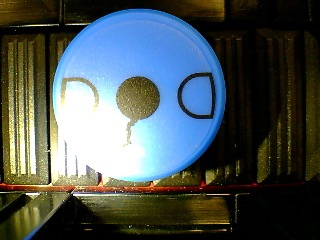CRACK: (52, 8, 227, 183)
